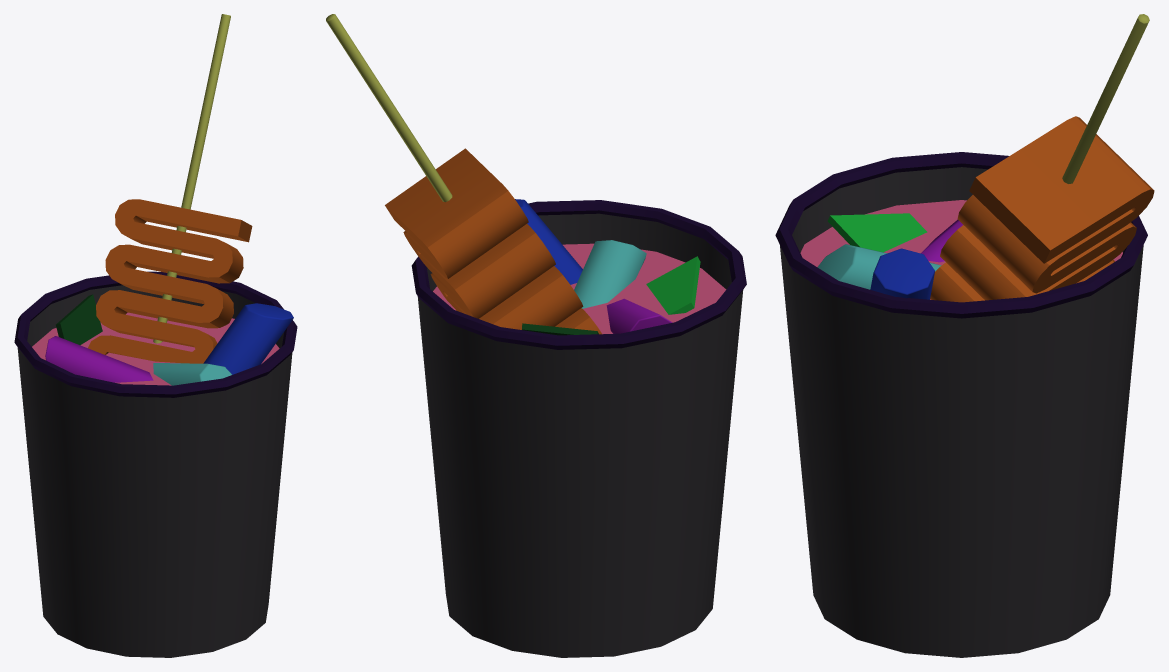
File: Tteokbokki.fbx
3 views of the same model, side by side, from view 1: azimuth 30°, elevation 25°; view 2: azimuth 150°, elevation 25°; view 3: azimuth 270°, elevation 25° (orthographic). The views are drawn at different scales.
Visible parts, largest first — view 1: Tteokbokki; view 2: Tteokbokki; view 3: Tteokbokki.
Boxes of the visible parts, <box> form: Tteokbokki: <box>14,14,297,657</box>; Tteokbokki: <box>326,14,746,657</box>; Tteokbokki: <box>775,14,1154,657</box>.
Size of the model in its own units: 31.74 by 29.84 by 58.06.
